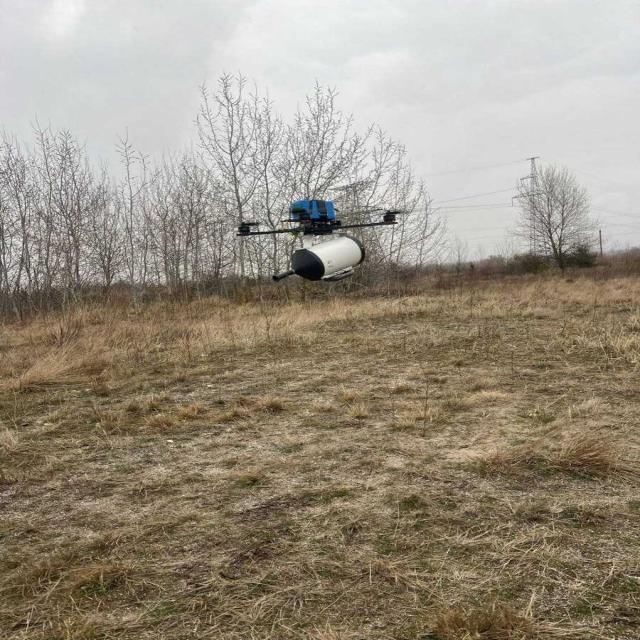drone: (233, 198, 422, 286)
